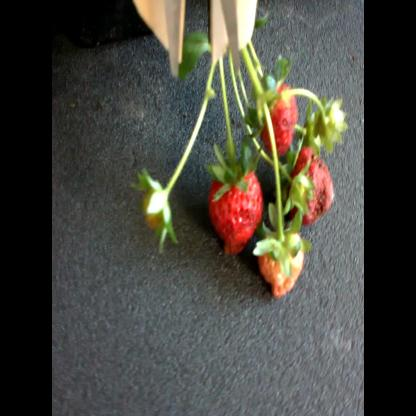ripe: (203, 166, 259, 256), (287, 132, 331, 228), (249, 69, 302, 146)
unripe: (255, 227, 316, 305), (138, 184, 170, 236)
